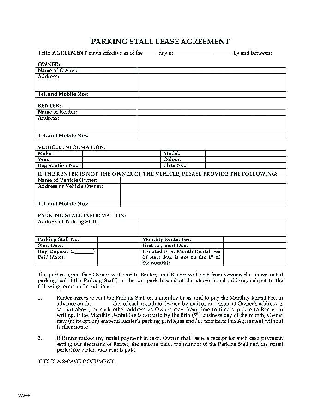textbox: (118, 181, 288, 204), (135, 112, 287, 135), (135, 216, 289, 238), (135, 72, 288, 94), (118, 197, 288, 209), (135, 129, 288, 142), (118, 175, 288, 186), (135, 65, 288, 76), (135, 88, 288, 99), (221, 246, 288, 269), (135, 107, 288, 117), (203, 154, 288, 165), (204, 160, 288, 171), (97, 247, 141, 268), (80, 154, 163, 165), (80, 148, 162, 159), (204, 148, 288, 158), (80, 160, 162, 170), (221, 240, 289, 251), (221, 234, 288, 244), (95, 241, 141, 251), (96, 235, 141, 244)
textline: (175, 48, 233, 57), (176, 48, 211, 57), (214, 49, 232, 57), (144, 48, 157, 57), (94, 301, 111, 307)
